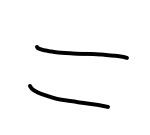eqv: (28, 45, 129, 109)
